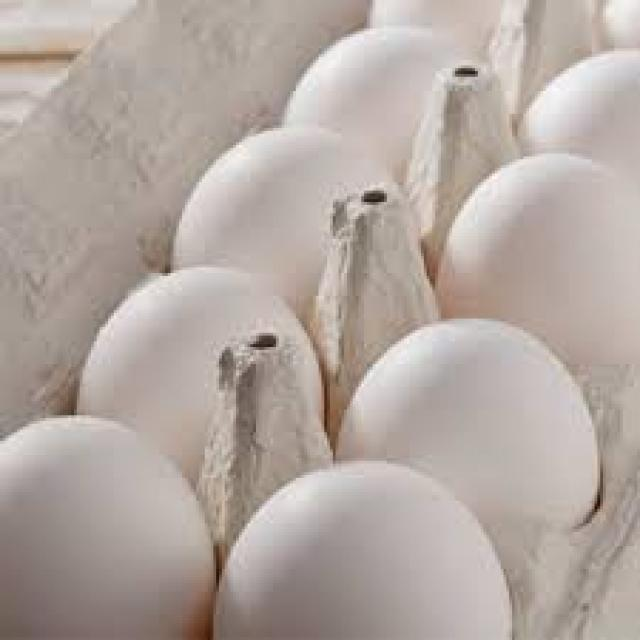White Egg: (210, 415, 520, 640), (71, 258, 335, 484), (335, 316, 602, 524), (164, 119, 407, 333), (0, 413, 213, 636), (426, 150, 640, 358)
